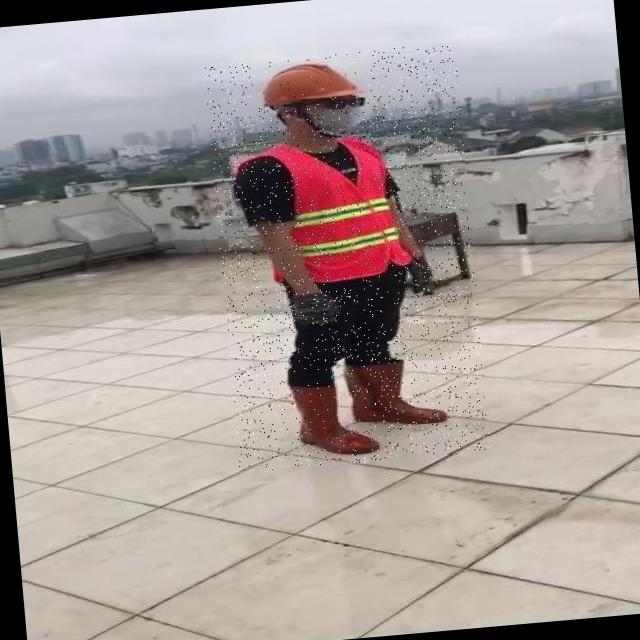hard_hat: (252, 55, 368, 107)
safety_vest: (242, 142, 410, 288)
vehicle: (203, 43, 490, 473)
work_boots: (273, 373, 384, 463), (346, 352, 451, 429)
